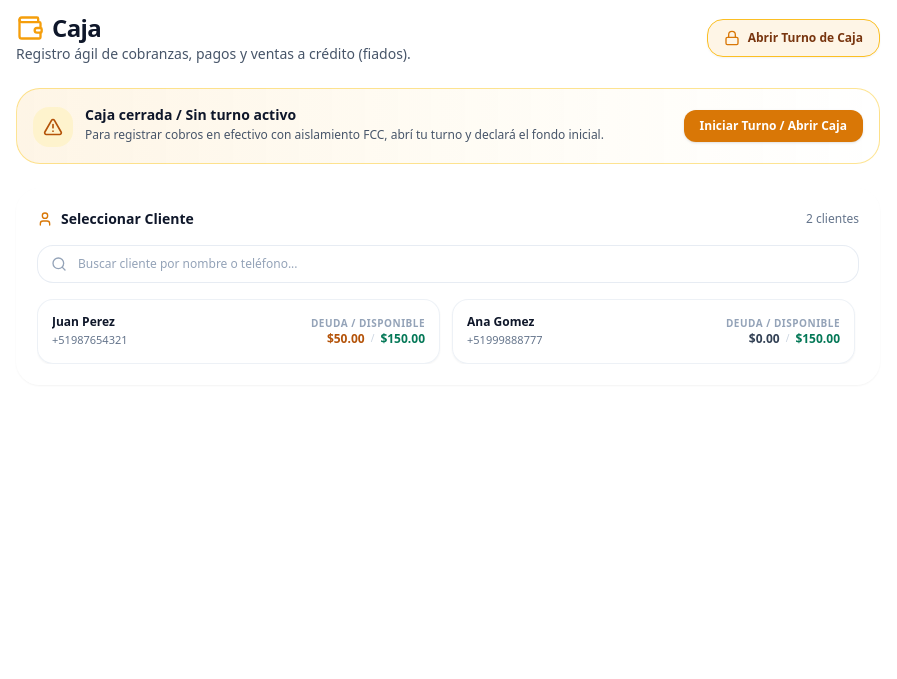
PosPage Component (Strict TDD) › Customer Search and Selection › selects a customer and opens transaction form
Click the text "Juan Perez".
click(83, 322)  # box x1=52 y1=313 x2=115 y2=330
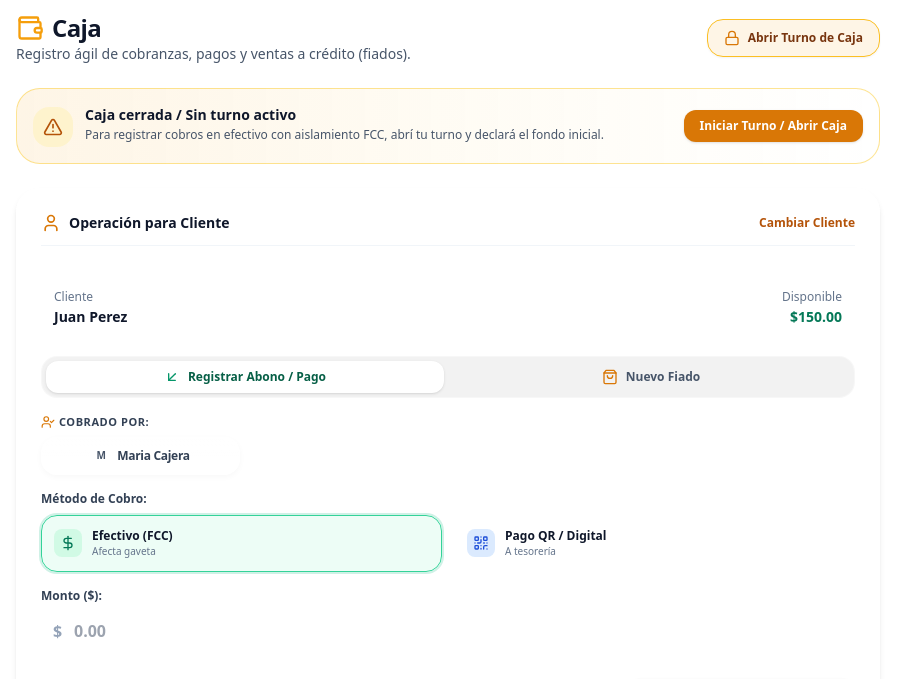
Now the button "Cambiar Cliente" is shown, box x1=759 y1=215 x2=855 y2=231
Now the number field labelled "Monto ($):" is shown, box x1=41 y1=608 x2=855 y2=654
